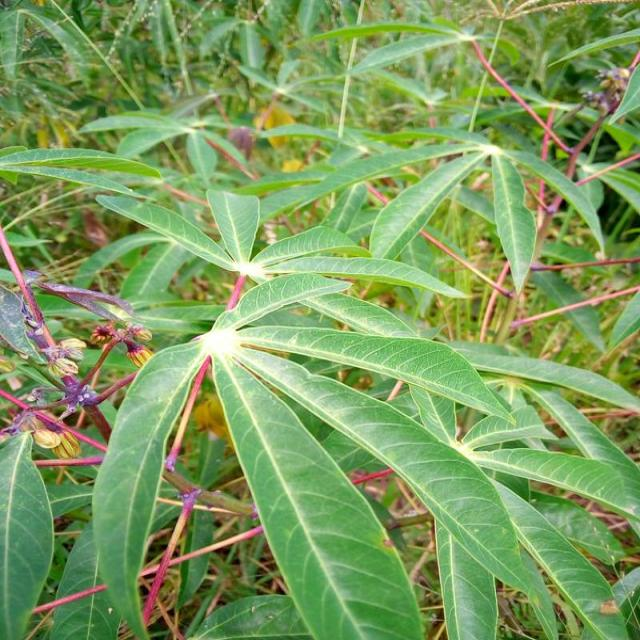cassava leaf: (210, 345, 424, 638), (90, 336, 210, 638), (0, 429, 54, 639)
